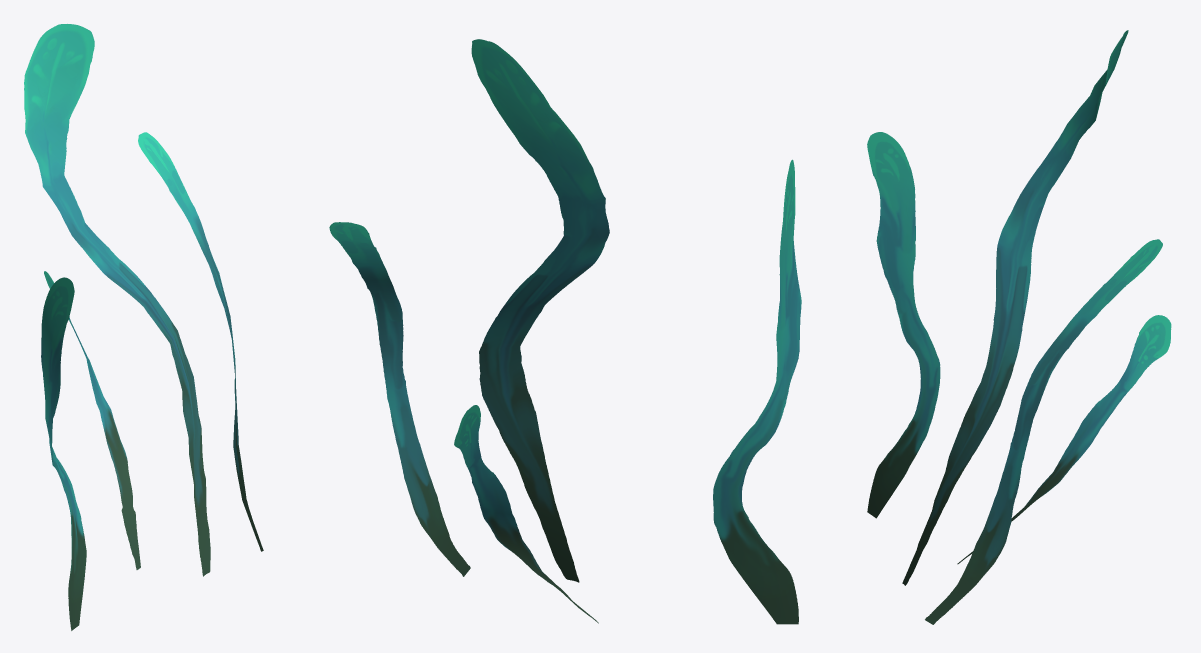
The model's file is Seaweed2.fbx.
3 renders of one model, left to right at view 1: azimuth 30°, elevation 25°; view 2: azimuth 150°, elevation 25°; view 3: azimuth 270°, elevation 25°, orthographic. The views are drawn at different scales.
Visible parts, largest first — view 1: Plane.004; view 2: Plane.004; view 3: Plane.004.
Boxes of the visible parts, left/top/right/bottom form: Plane.004: left=24, top=24, right=263, bottom=630; Plane.004: left=329, top=39, right=801, bottom=624; Plane.004: left=867, top=30, right=1171, bottom=624.
Bounding box in the file's own units: 96.93 × 175 × 95.06.
